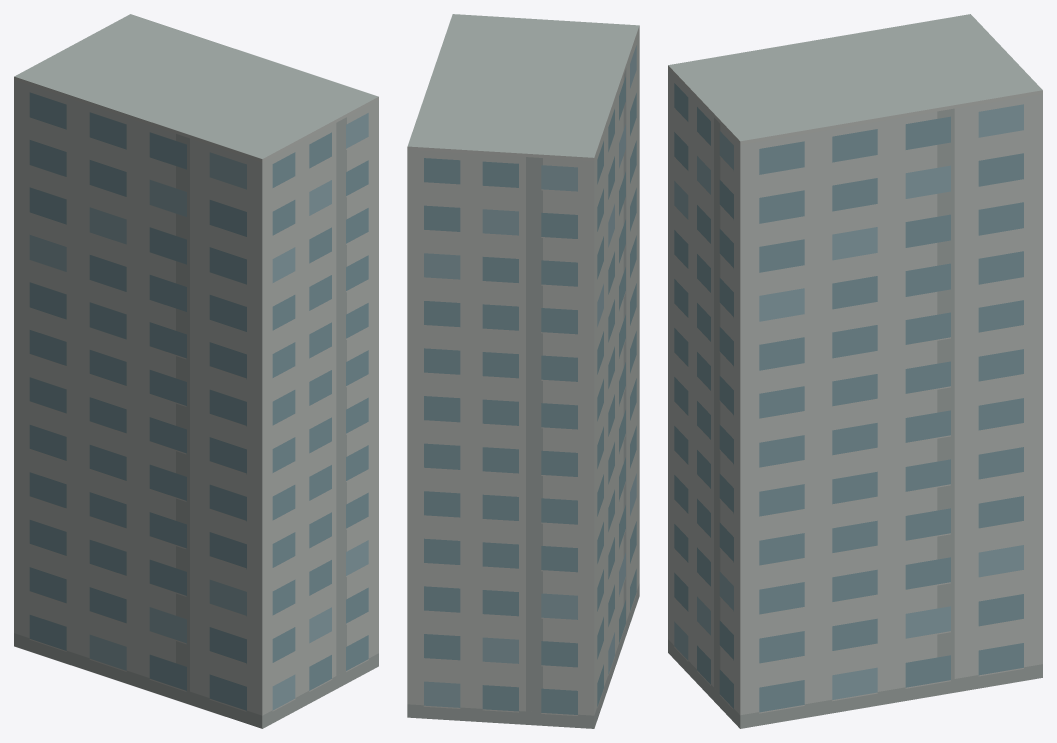
File: residential-627fcb3f-db72-4c18-8357-4d3a17c8ef92.glb
The picture shows the model from 3 angles, left to right: view 1: azimuth 30°, elevation 25°; view 2: azimuth 150°, elevation 25°; view 3: azimuth 270°, elevation 25°; orthographic projection. The views are drawn at different scales.
Parts seen in each view (by area): view 1: residential-627fcb3f-db72-4c18-8357-4d3a17c8ef92.tmp; view 2: residential-627fcb3f-db72-4c18-8357-4d3a17c8ef92.tmp; view 3: residential-627fcb3f-db72-4c18-8357-4d3a17c8ef92.tmp.
Part boxes in pixels (x1,y1,x2,y2): residential-627fcb3f-db72-4c18-8357-4d3a17c8ef92.tmp: [14, 14, 378, 728]; residential-627fcb3f-db72-4c18-8357-4d3a17c8ef92.tmp: [407, 14, 639, 728]; residential-627fcb3f-db72-4c18-8357-4d3a17c8ef92.tmp: [668, 14, 1042, 728].
Bounding box in the file's own units: 19.53 × 42 × 24.29.
